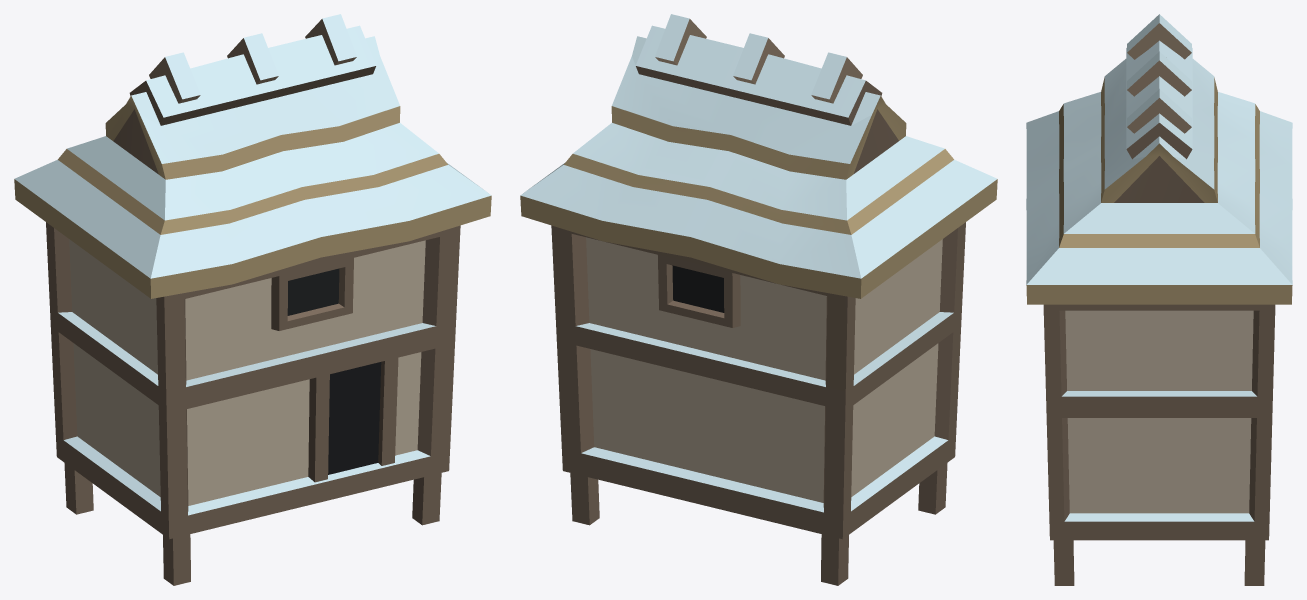
The model's file is SM_Bld_Samurai_House_02_Snow.glb.
The picture shows the model from 3 angles, left to right: view 1: azimuth 30°, elevation 25°; view 2: azimuth 150°, elevation 25°; view 3: azimuth 270°, elevation 25°; orthographic projection. The views are drawn at different scales.
Parts seen in each view (by area): view 1: SM_Bld_Samurai_House_02_Snow; view 2: SM_Bld_Samurai_House_02_Snow; view 3: SM_Bld_Samurai_House_02_Snow.
Boxes of the visible parts, x1,y1,x2,y2 form: SM_Bld_Samurai_House_02_Snow: [14, 14, 491, 585]; SM_Bld_Samurai_House_02_Snow: [520, 14, 997, 585]; SM_Bld_Samurai_House_02_Snow: [1026, 14, 1292, 585].
Bounding box in the file's own units: 1.09 × 1.46 × 0.7551.
1 material, 1 textured.
